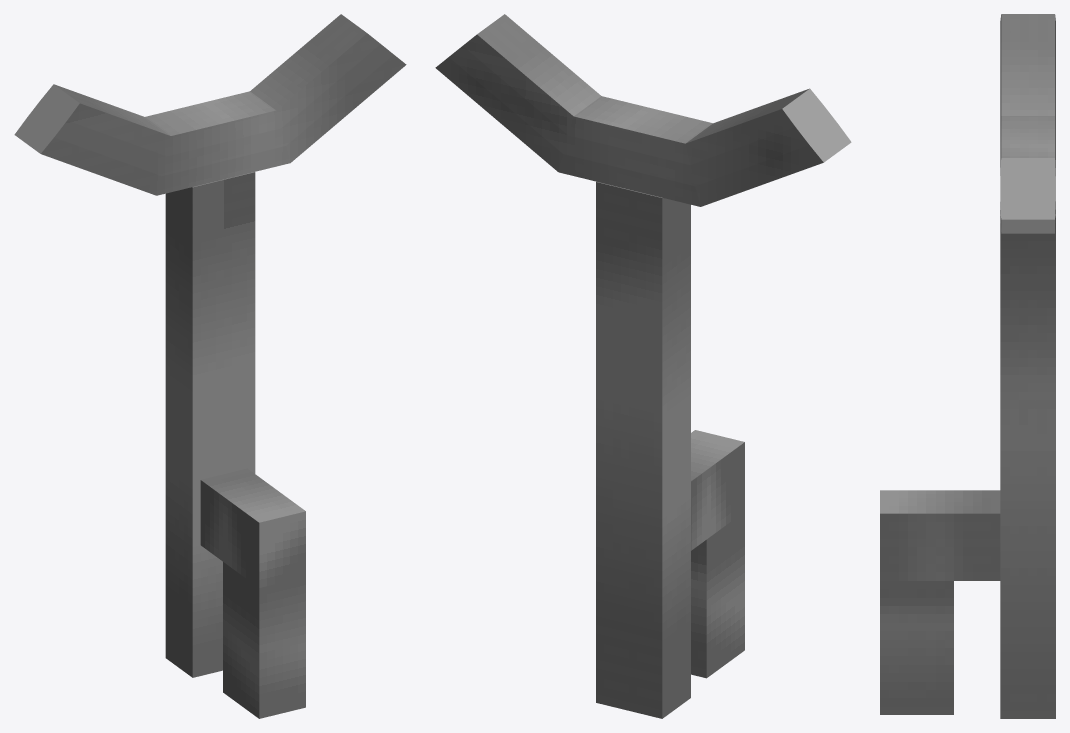
File: YStand.gltf
The picture shows the model from 3 angles, left to right: view 1: azimuth 30°, elevation 25°; view 2: azimuth 150°, elevation 25°; view 3: azimuth 270°, elevation 25°; orthographic projection. The views are drawn at different scales.
Parts seen in each view (by area): view 1: cube (×3), Pipe; view 2: cube (×3), Pipe; view 3: cube (×3), Pipe.
Part boxes in pixels (x1,y1,x2,y2): cube (×3): (165,172,305,718); Pipe: (14,14,406,195); cube (×3): (596,181,744,718); Pipe: (435,14,851,206); cube (×3): (880,214,1055,718); Pipe: (1000,14,1055,233).
Size of the model in its own units: 0.7321 by 1.15 by 0.2969.
1 material, 1 textured.
